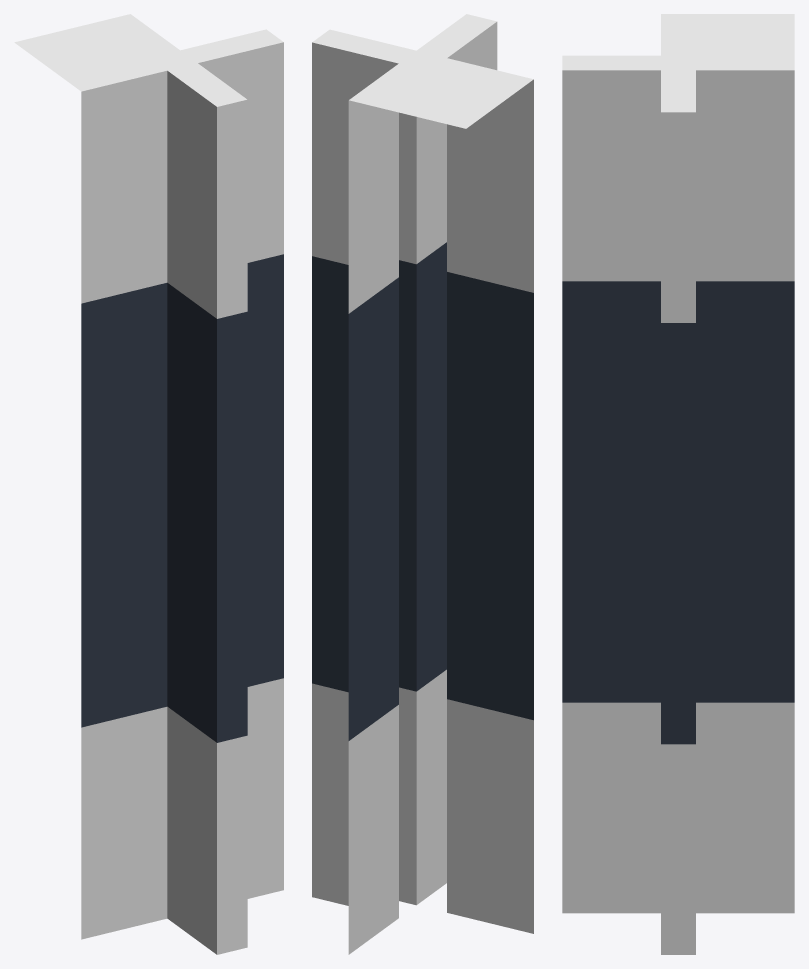
File: SM_OfficeCrossAvgOB.fbx
The picture shows the model from 3 angles, left to right: view 1: azimuth 30°, elevation 25°; view 2: azimuth 150°, elevation 25°; view 3: azimuth 270°, elevation 25°; orthographic projection.
Parts seen in each view (by area): view 1: SM_CrossAvgOB; view 2: SM_CrossAvgOB; view 3: SM_CrossAvgOB.
Part boxes in pixels (x1,y1,x2,y2): SM_CrossAvgOB: (14,14,283,954); SM_CrossAvgOB: (312,14,533,954); SM_CrossAvgOB: (562,14,794,954).
Bounding box in the file's own units: 100 × 400 × 100.
